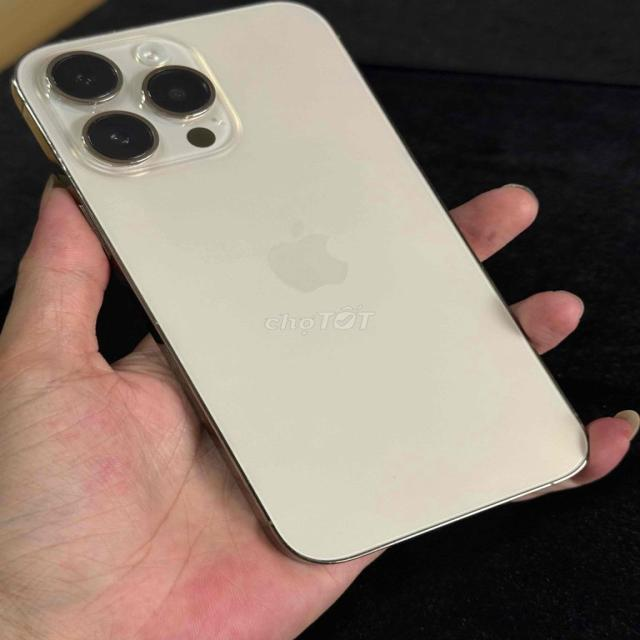gen_14: (18, 0, 597, 563)
